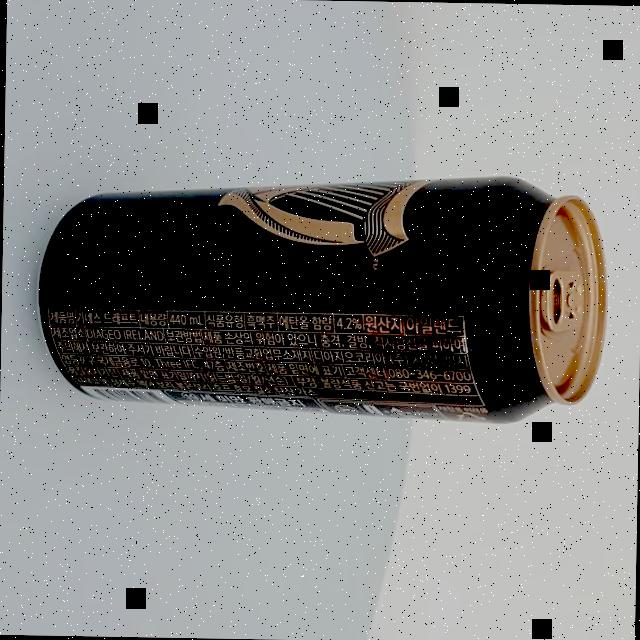can: (32, 167, 608, 425)
